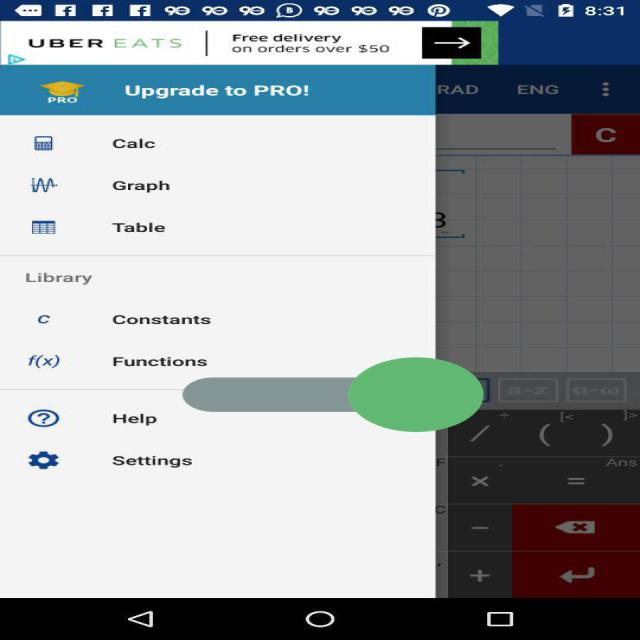social proof: (182, 311, 483, 478)
